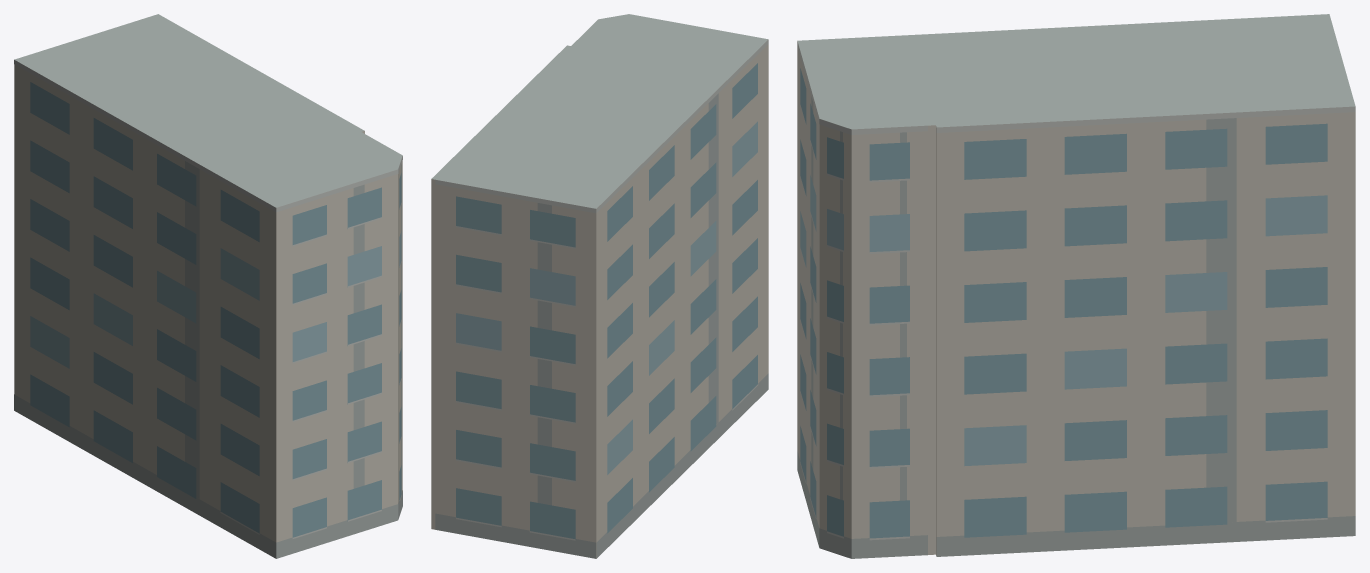
Rendered from survey-upis-33033373.glb.
3 views of the same model, side by side, from view 1: azimuth 30°, elevation 25°; view 2: azimuth 150°, elevation 25°; view 3: azimuth 270°, elevation 25° (orthographic). The views are drawn at different scales.
Parts seen in each view (by area): view 1: survey-upis-33033373.tmp; view 2: survey-upis-33033373.tmp; view 3: survey-upis-33033373.tmp.
Boxes of the visible parts, x1=… form: survey-upis-33033373.tmp: x1=14, y1=14, x2=402, y2=558; survey-upis-33033373.tmp: x1=431, y1=14, x2=768, y2=558; survey-upis-33033373.tmp: x1=797, y1=14, x2=1355, y2=558.
Size of the model in its own units: 10.79 by 18.7 by 22.03.
